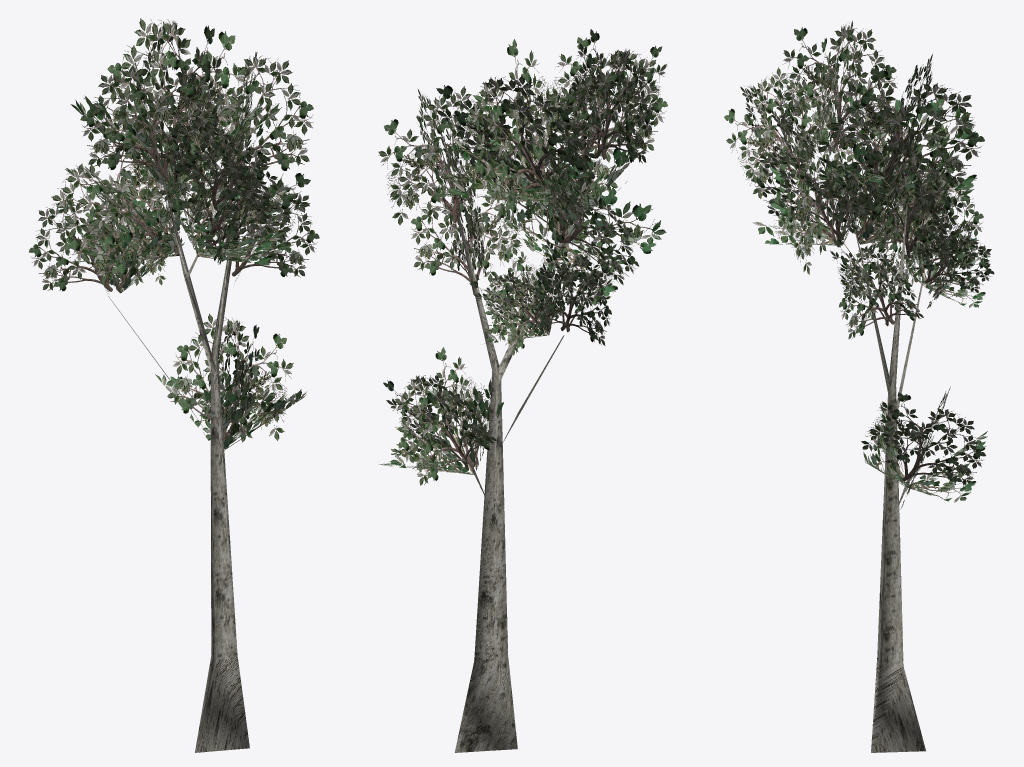
Rendered from decd_whitebirchtreeleaves_l2.fbx.
3 renders of one model, left to right at view 1: azimuth 30°, elevation 25°; view 2: azimuth 150°, elevation 25°; view 3: azimuth 270°, elevation 25°, orthographic. The views are drawn at different scales.
Parts seen in each view (by area): view 1: mesh_node; view 2: mesh_node; view 3: mesh_node.
Part boxes in pixels (x1,y1,x2,y2): mesh_node: (29,18,319,752); mesh_node: (378,29,667,752); mesh_node: (724,20,994,752).
Size of the model in its own units: 6.79 by 17.06 by 6.75.
